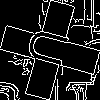U: (25, 25, 79, 72)
